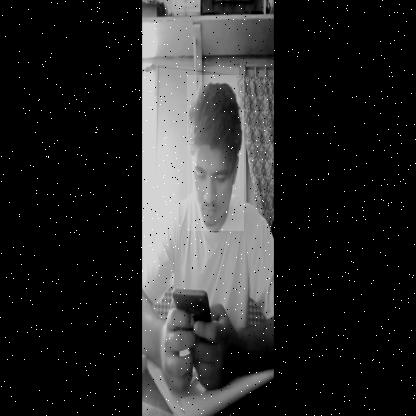Normal: (187, 76, 244, 232)
